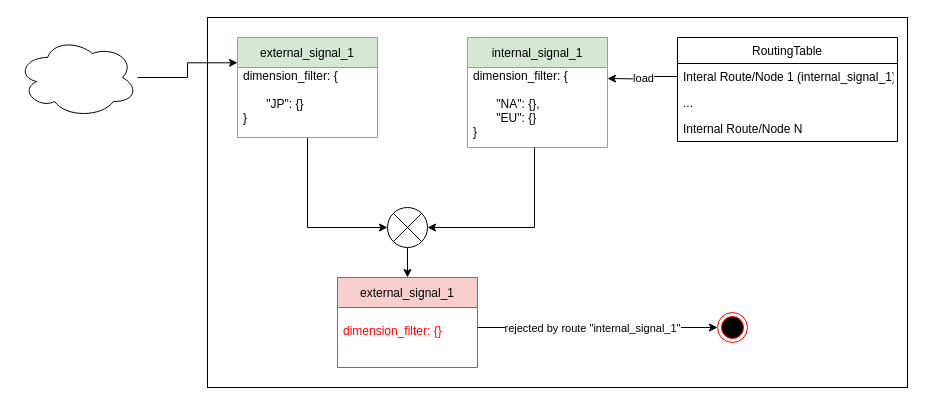
This 925x405 diagram has some shape labels left out. The centre of each missing label's shape, as x and y in pixels:
"chain" goes at point (407, 227).
"S3, Glue Catalog" goes at point (77, 77).
